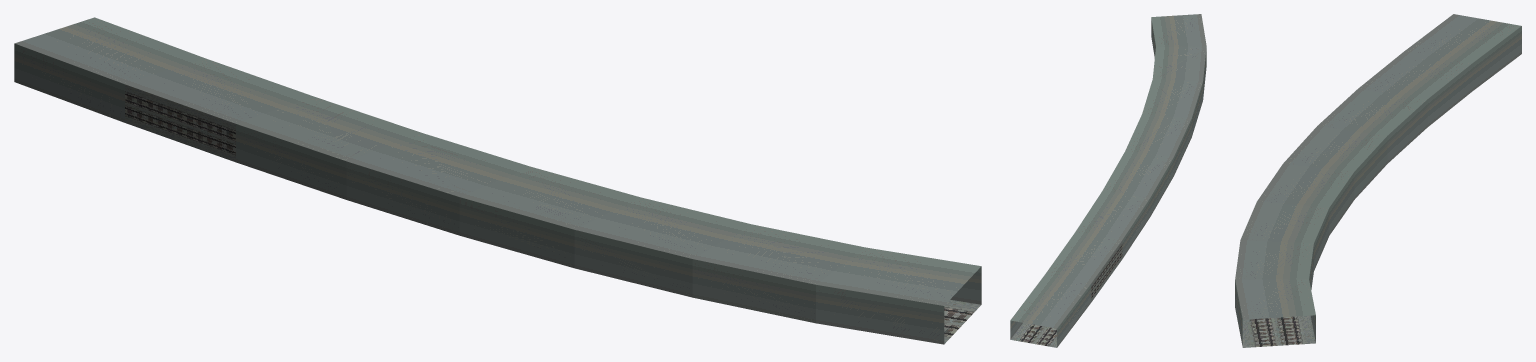
File: lodcuntrail07.obj
The picture shows the model from 3 angles, left to right: view 1: azimuth 30°, elevation 25°; view 2: azimuth 150°, elevation 25°; view 3: azimuth 330°, elevation 25°; orthographic projection. The views are drawn at different scales.
Visible parts, largest first — view 1: LODcuntrail07; view 2: LODcuntrail07; view 3: LODcuntrail07.
Boxes of the visible parts, box(x1,y1,x2,y2) form: LODcuntrail07: box(14, 17, 981, 344); LODcuntrail07: box(1010, 14, 1206, 347); LODcuntrail07: box(1235, 14, 1521, 347).
Bounding box in the file's own units: 49.06 × 17.32 × 134.
Materials: 1 (1 with a texture image).
